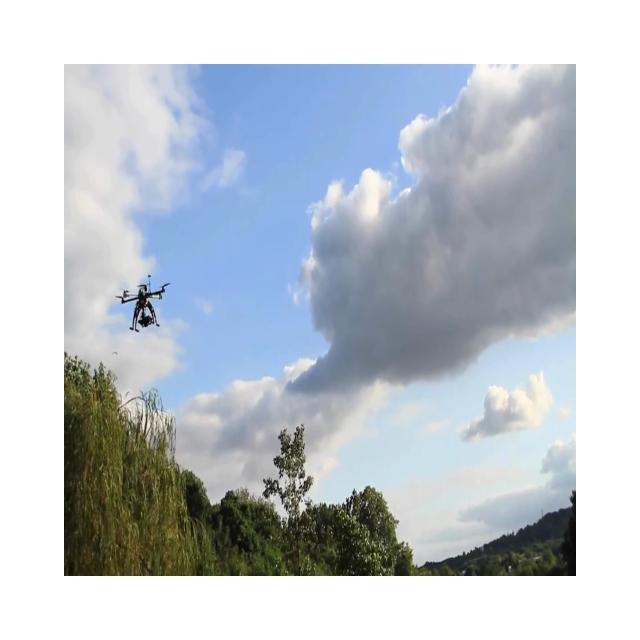drone: (115, 274, 170, 332)
